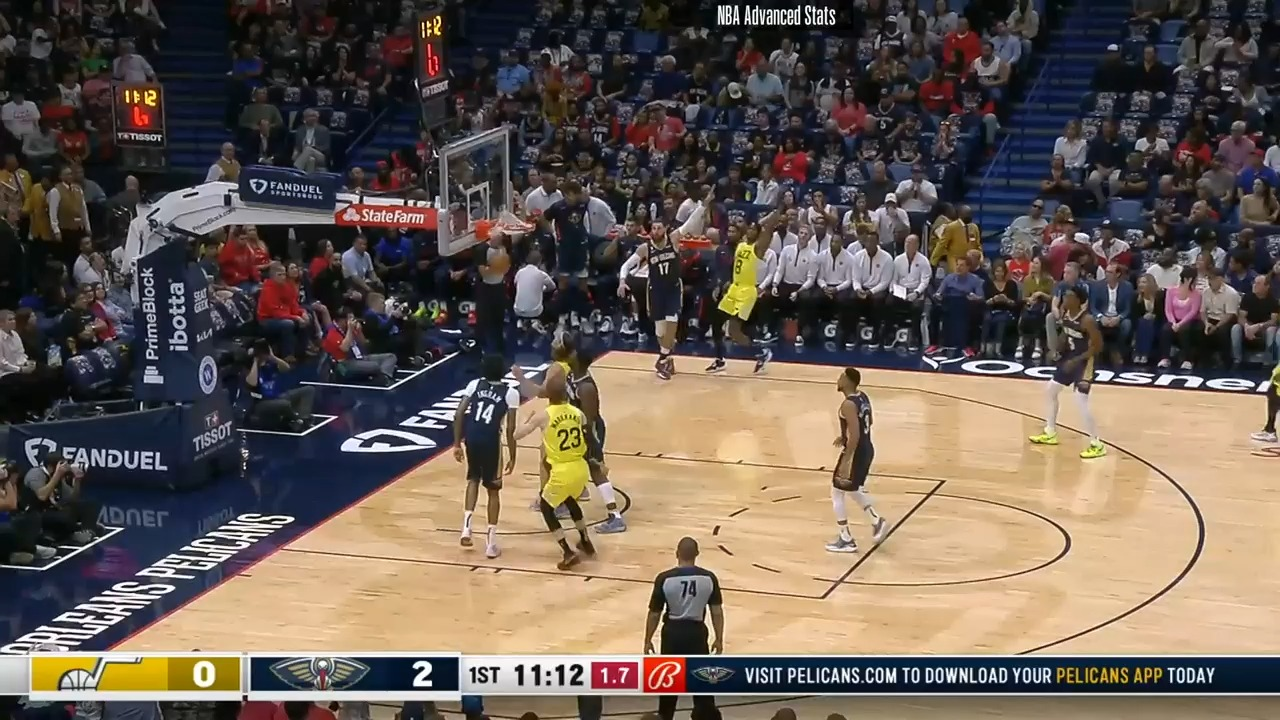net: (469, 213, 533, 249)
player: (623, 192, 720, 381), (448, 347, 526, 562), (701, 195, 791, 380), (525, 379, 603, 569), (1029, 291, 1113, 461), (821, 363, 891, 554), (562, 345, 628, 535), (533, 337, 583, 410)
referee: (647, 534, 730, 655), (462, 232, 520, 370)
